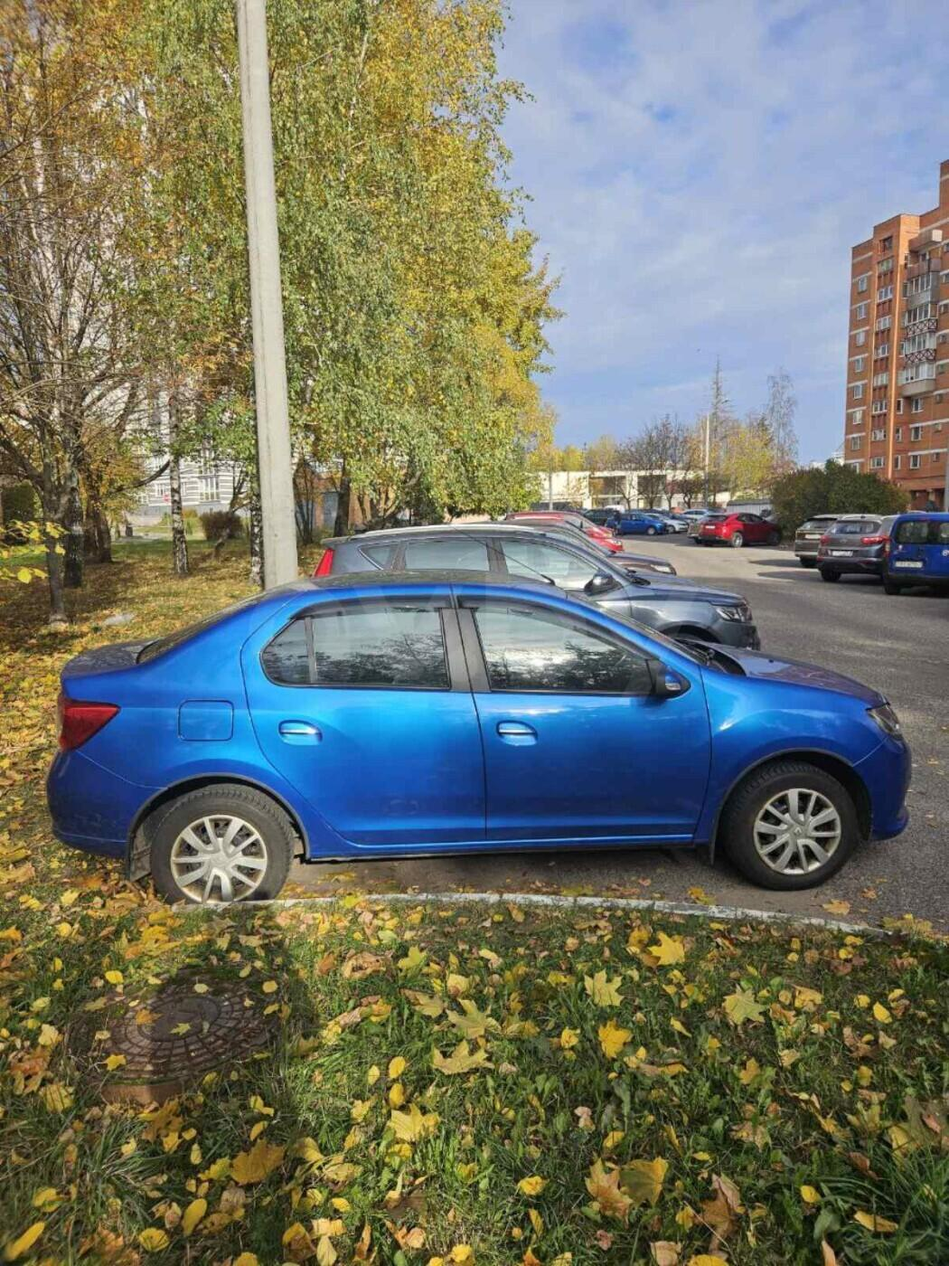Logan_2013-2018: (45, 570, 911, 926)
